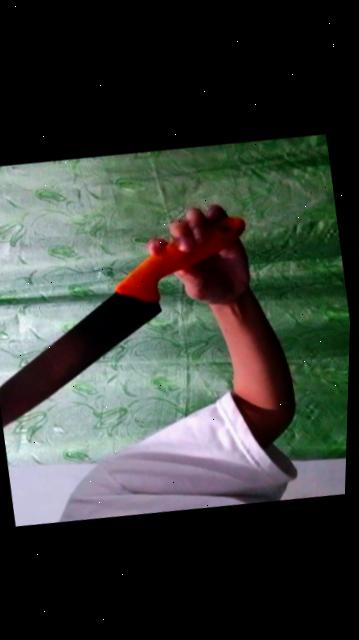long knife: (0, 185, 280, 462)
